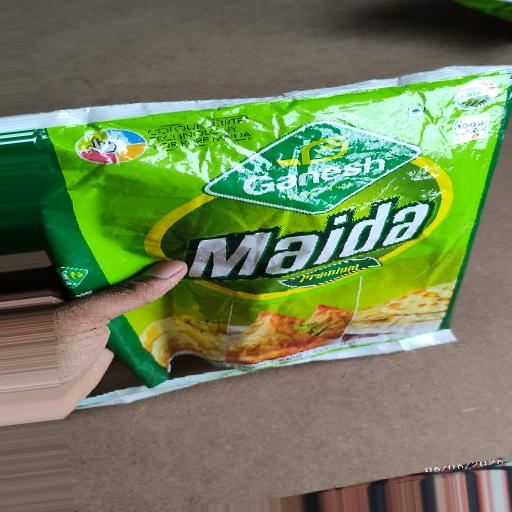Ganesh Maida: (0, 59, 511, 422)
